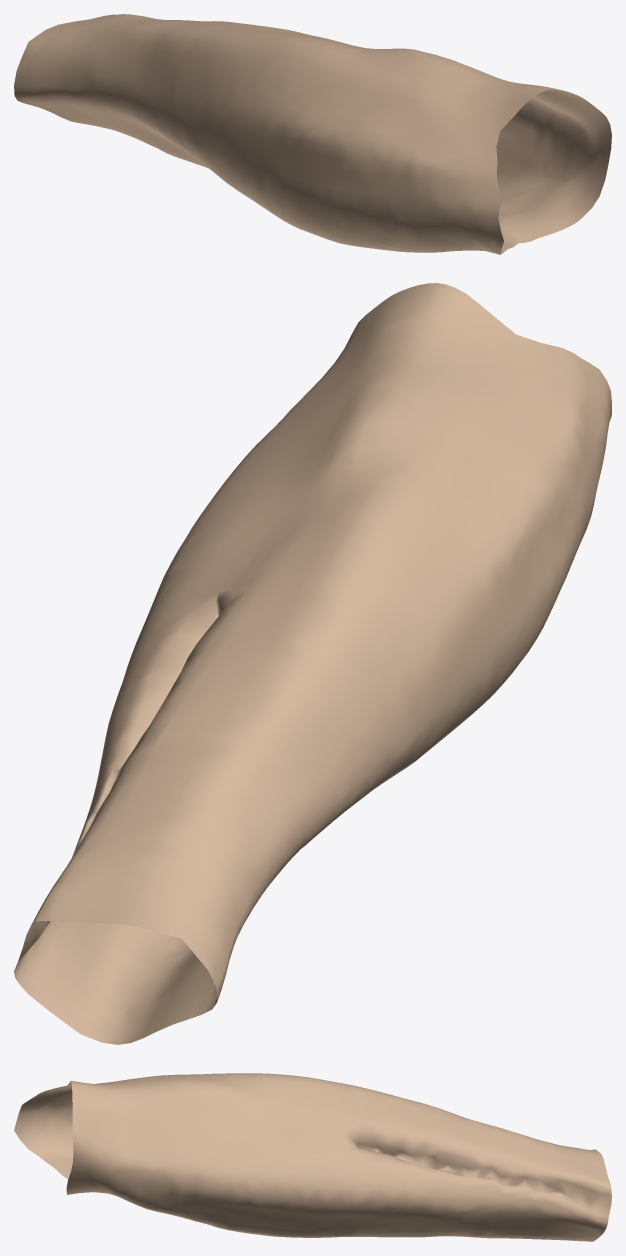
The picture shows the model from 3 angles, top to bottom: view 1: azimuth 30°, elevation 25°; view 2: azimuth 150°, elevation 25°; view 3: azimuth 270°, elevation 25°; orthographic projection. The views are drawn at different scales.
Visible parts, largest first — view 1: 右侧前臂筋膜; view 2: 右侧前臂筋膜; view 3: 右侧前臂筋膜.
Part boxes in pixels (<box>): 右侧前臂筋膜: <box>14,14,611,254</box>; 右侧前臂筋膜: <box>14,283,611,1044</box>; 右侧前臂筋膜: <box>14,1073,611,1241</box>.
Size of the model in its own units: 0.1549 by 0.151 by 0.4216.
